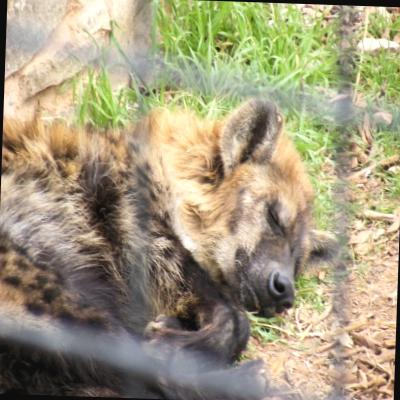hyenas: (0, 84, 364, 366)
